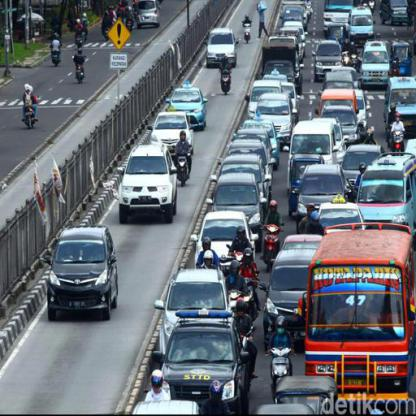car: (47, 225, 124, 323), (165, 315, 234, 404), (117, 140, 180, 222), (265, 247, 315, 339), (158, 268, 222, 328), (296, 163, 344, 209), (206, 174, 261, 214), (194, 212, 246, 253), (152, 107, 196, 154), (359, 40, 397, 90), (259, 93, 296, 142), (168, 81, 206, 122), (208, 25, 236, 63)
motorbike: (268, 346, 295, 394), (264, 223, 282, 266), (175, 153, 195, 184), (47, 44, 64, 69), (22, 103, 40, 126), (392, 128, 407, 154), (219, 67, 233, 94), (72, 56, 87, 81), (347, 51, 362, 72), (242, 18, 254, 44)
